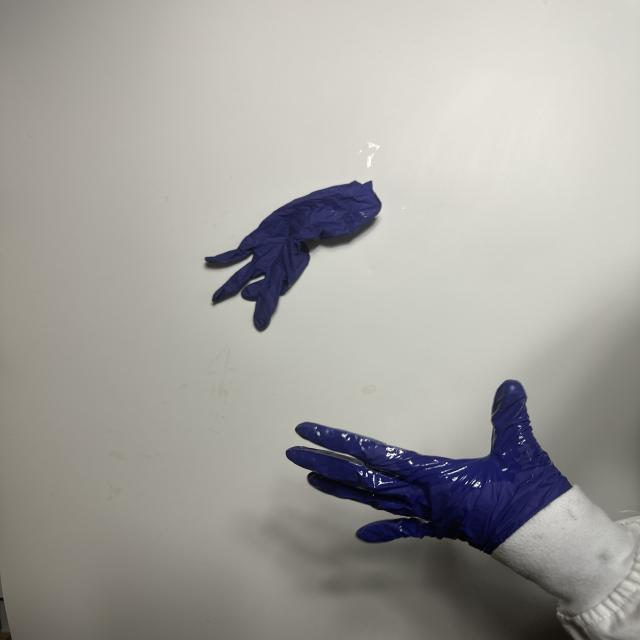gloves_contaminated: (286, 380, 572, 554)
